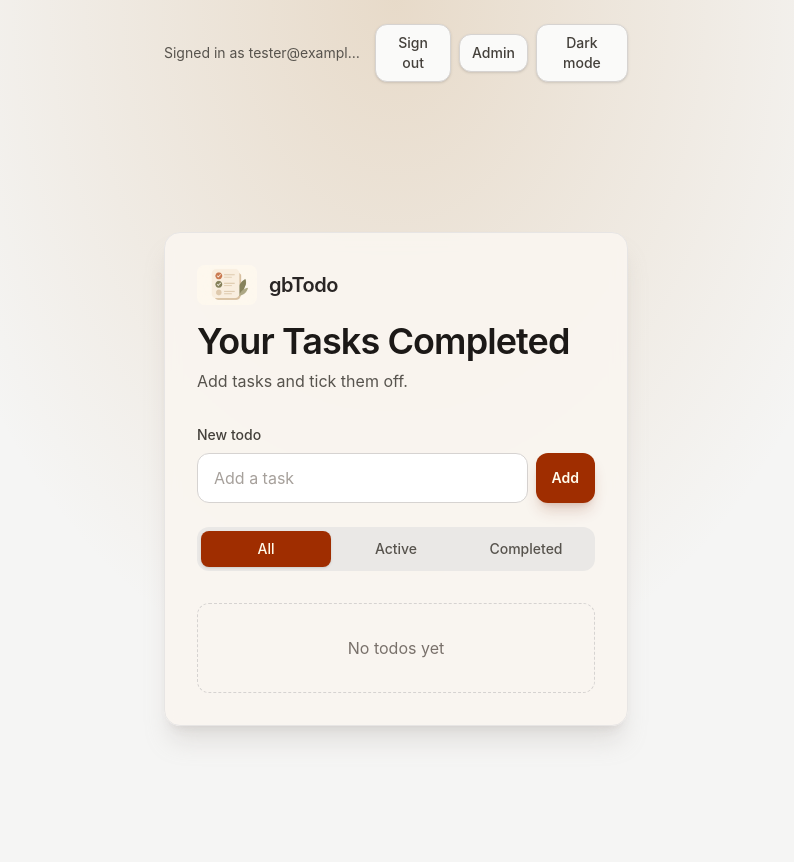
Test: admin panel › toggles the admin panel open and closed
Expected: the field labelled "New todo" is shown, [197,453,528,503]
Click the button "Admin" at (493, 53), box [459,34,528,72]
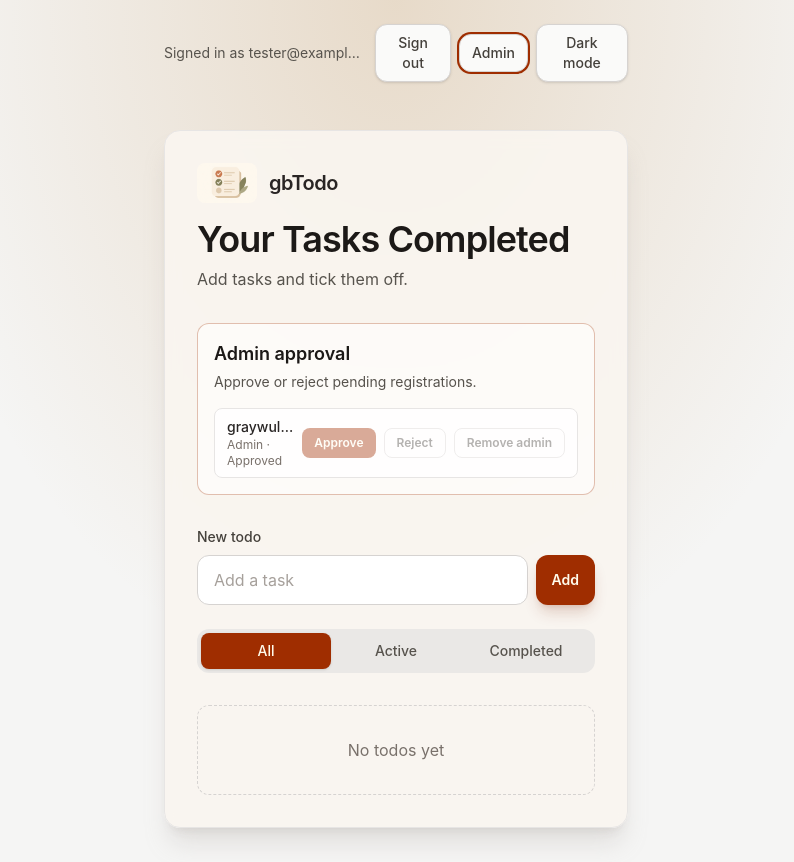
Expected: the element with test id "admin-panel" is shown, [197,323,595,495]
Expected: the heading "Admin approval" is shown, [214,343,350,364]
Click the button "Admin" at (493, 53), box [459,34,528,72]
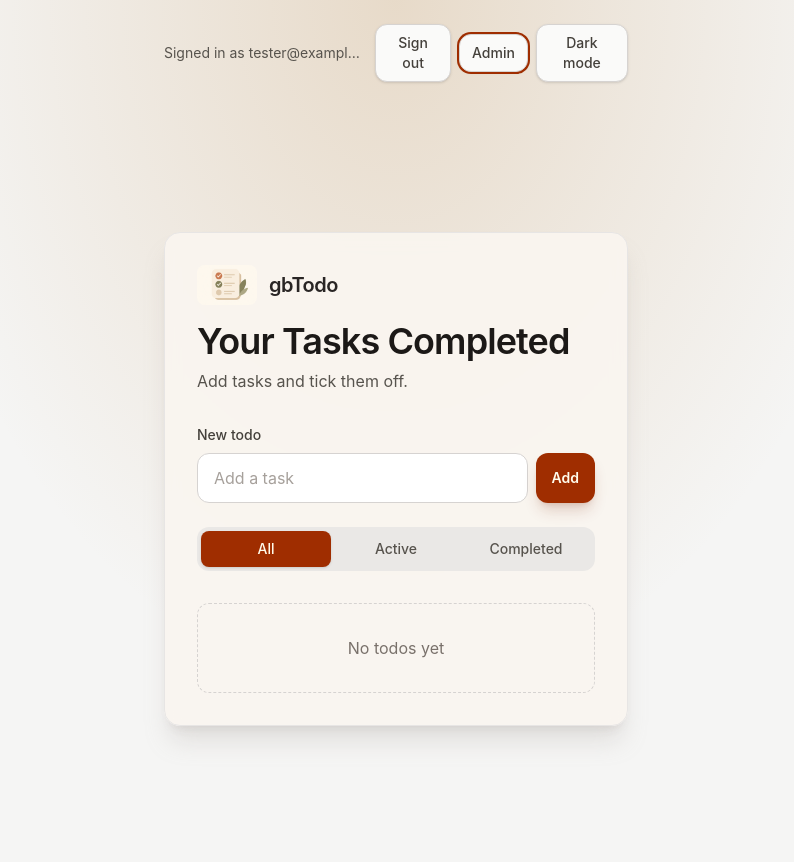
Expected: the element with test id "admin-panel" is gone
